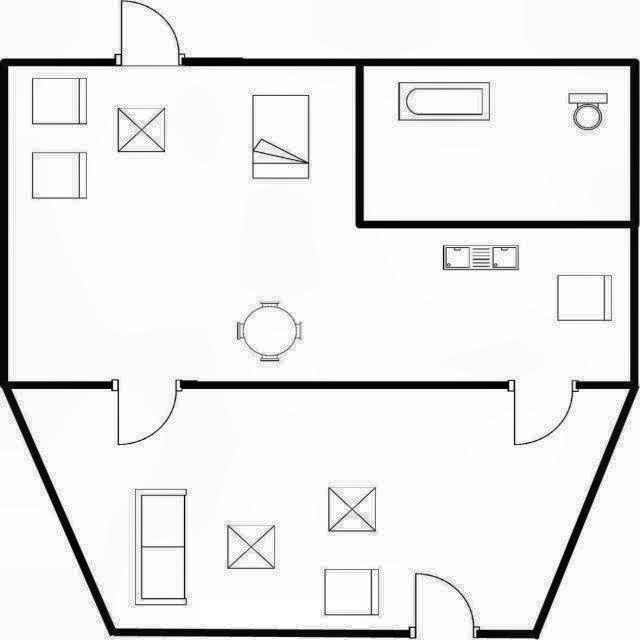room: (8, 66, 630, 381), (11, 389, 630, 630), (364, 66, 630, 221)
